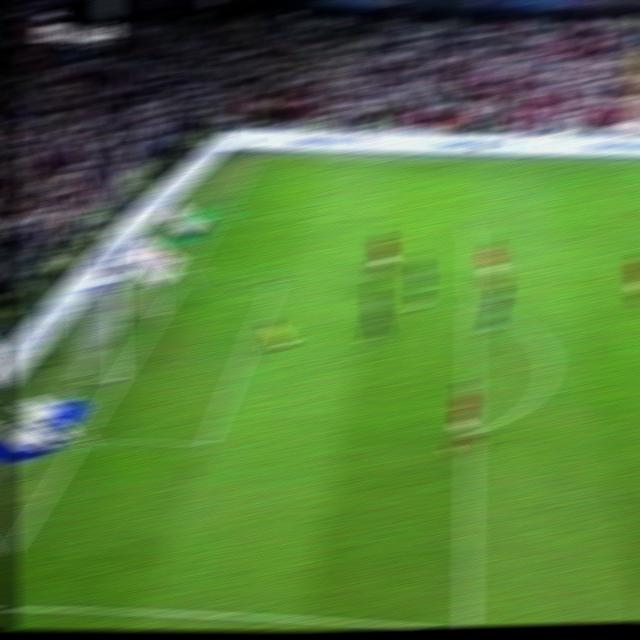bigarea_bottom_inner: (451, 610, 480, 626)
bigarea_top_inner: (457, 214, 483, 234)
bigarea_top_outter: (206, 206, 237, 226)
corner: (245, 151, 271, 167)
smallarea_bottom_inner: (196, 426, 222, 455)
smallarea_bottom_outter: (69, 429, 94, 450)
smallarea_top_inner: (259, 272, 287, 292)
smallarea_top_outter: (163, 268, 202, 291)
top_arc_area_intersection: (464, 293, 482, 308)
